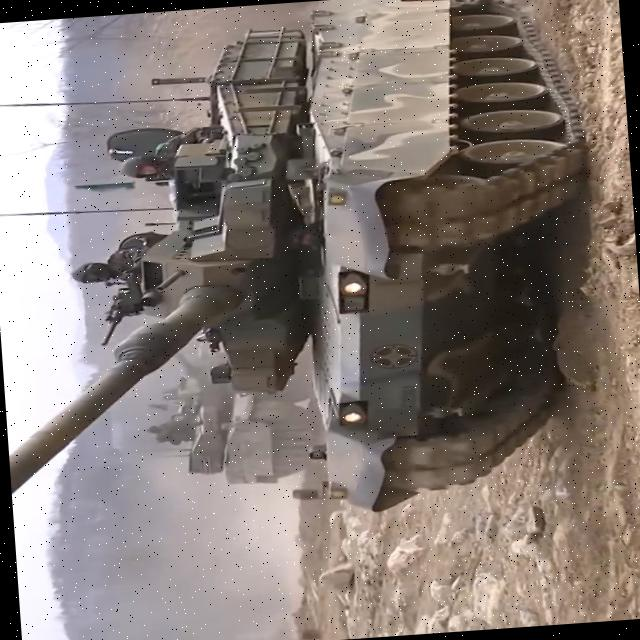korea tank: (0, 0, 618, 540)
